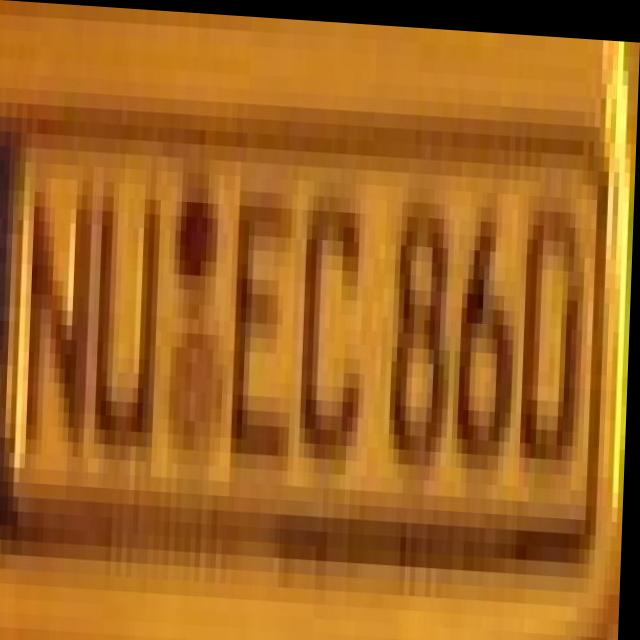0: (523, 188, 588, 453)
6: (459, 199, 509, 463)
8: (386, 166, 463, 475)
C: (301, 161, 373, 471)
E: (228, 173, 300, 467)
N: (25, 176, 100, 428)
U: (92, 165, 163, 445)
